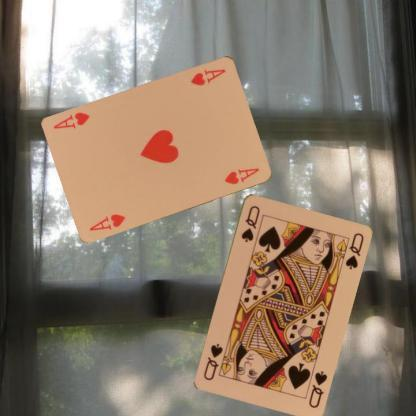Ah: (188, 66, 228, 87), (86, 211, 126, 232)
Qs: (238, 202, 261, 244), (306, 368, 328, 409)
